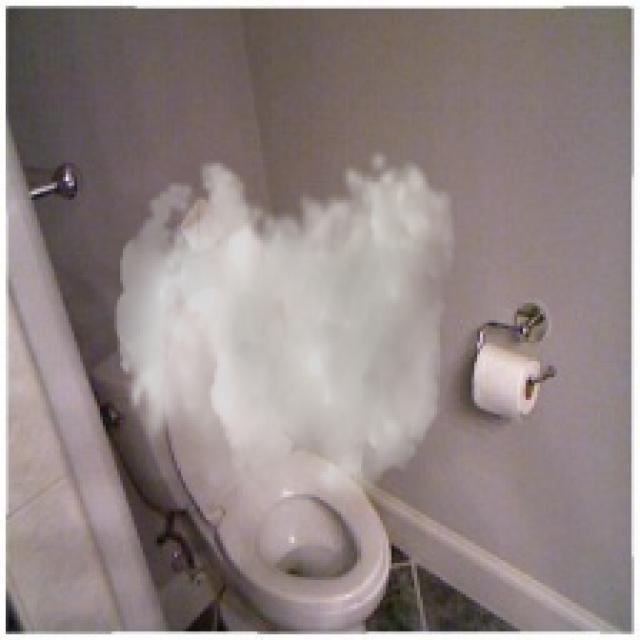smoke: (114, 148, 457, 552)
